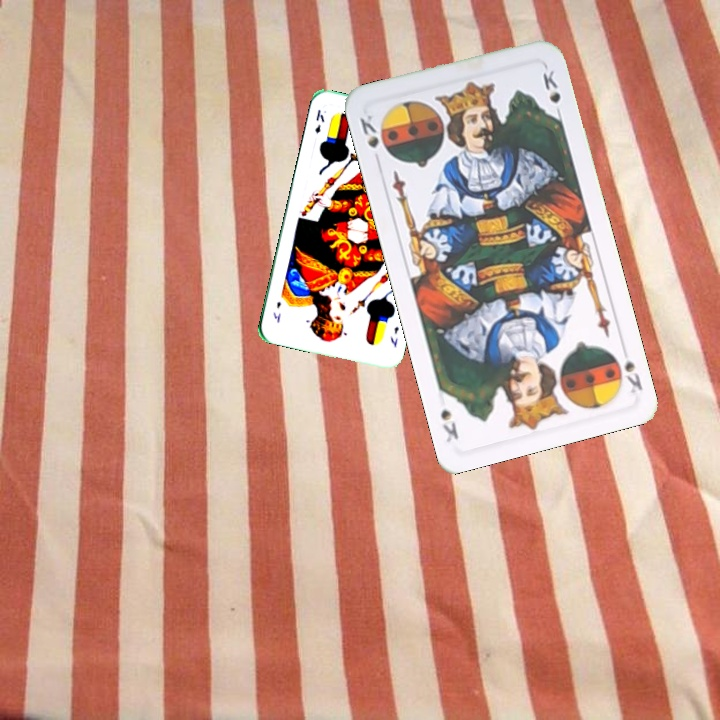EK: (311, 105, 327, 135), (386, 322, 401, 350)
SK: (608, 341, 645, 396), (356, 110, 383, 167)
